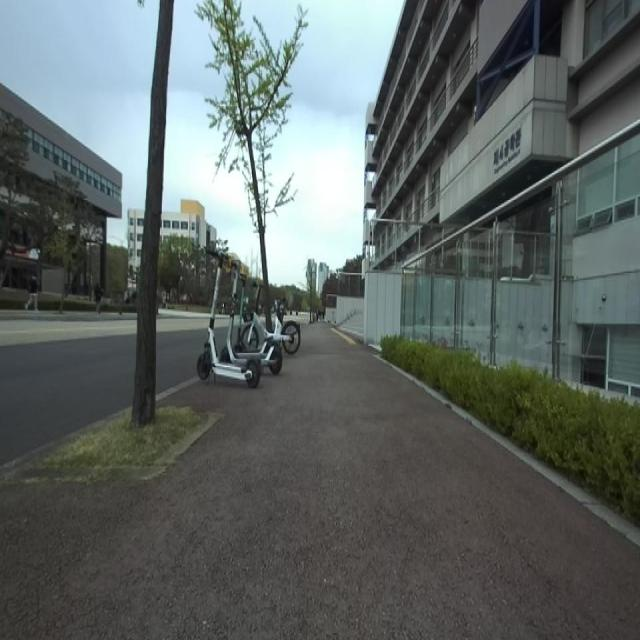sidewalk: (0, 324, 640, 639), (374, 355, 640, 546)
